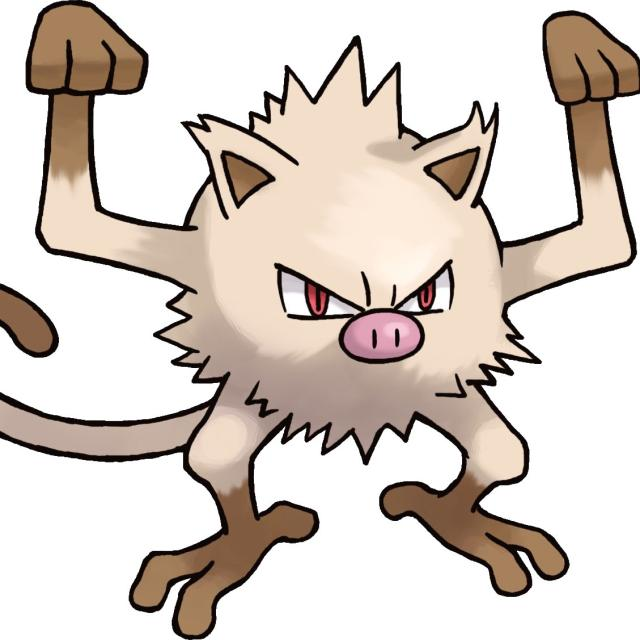Mankey: (116, 99, 566, 535)
